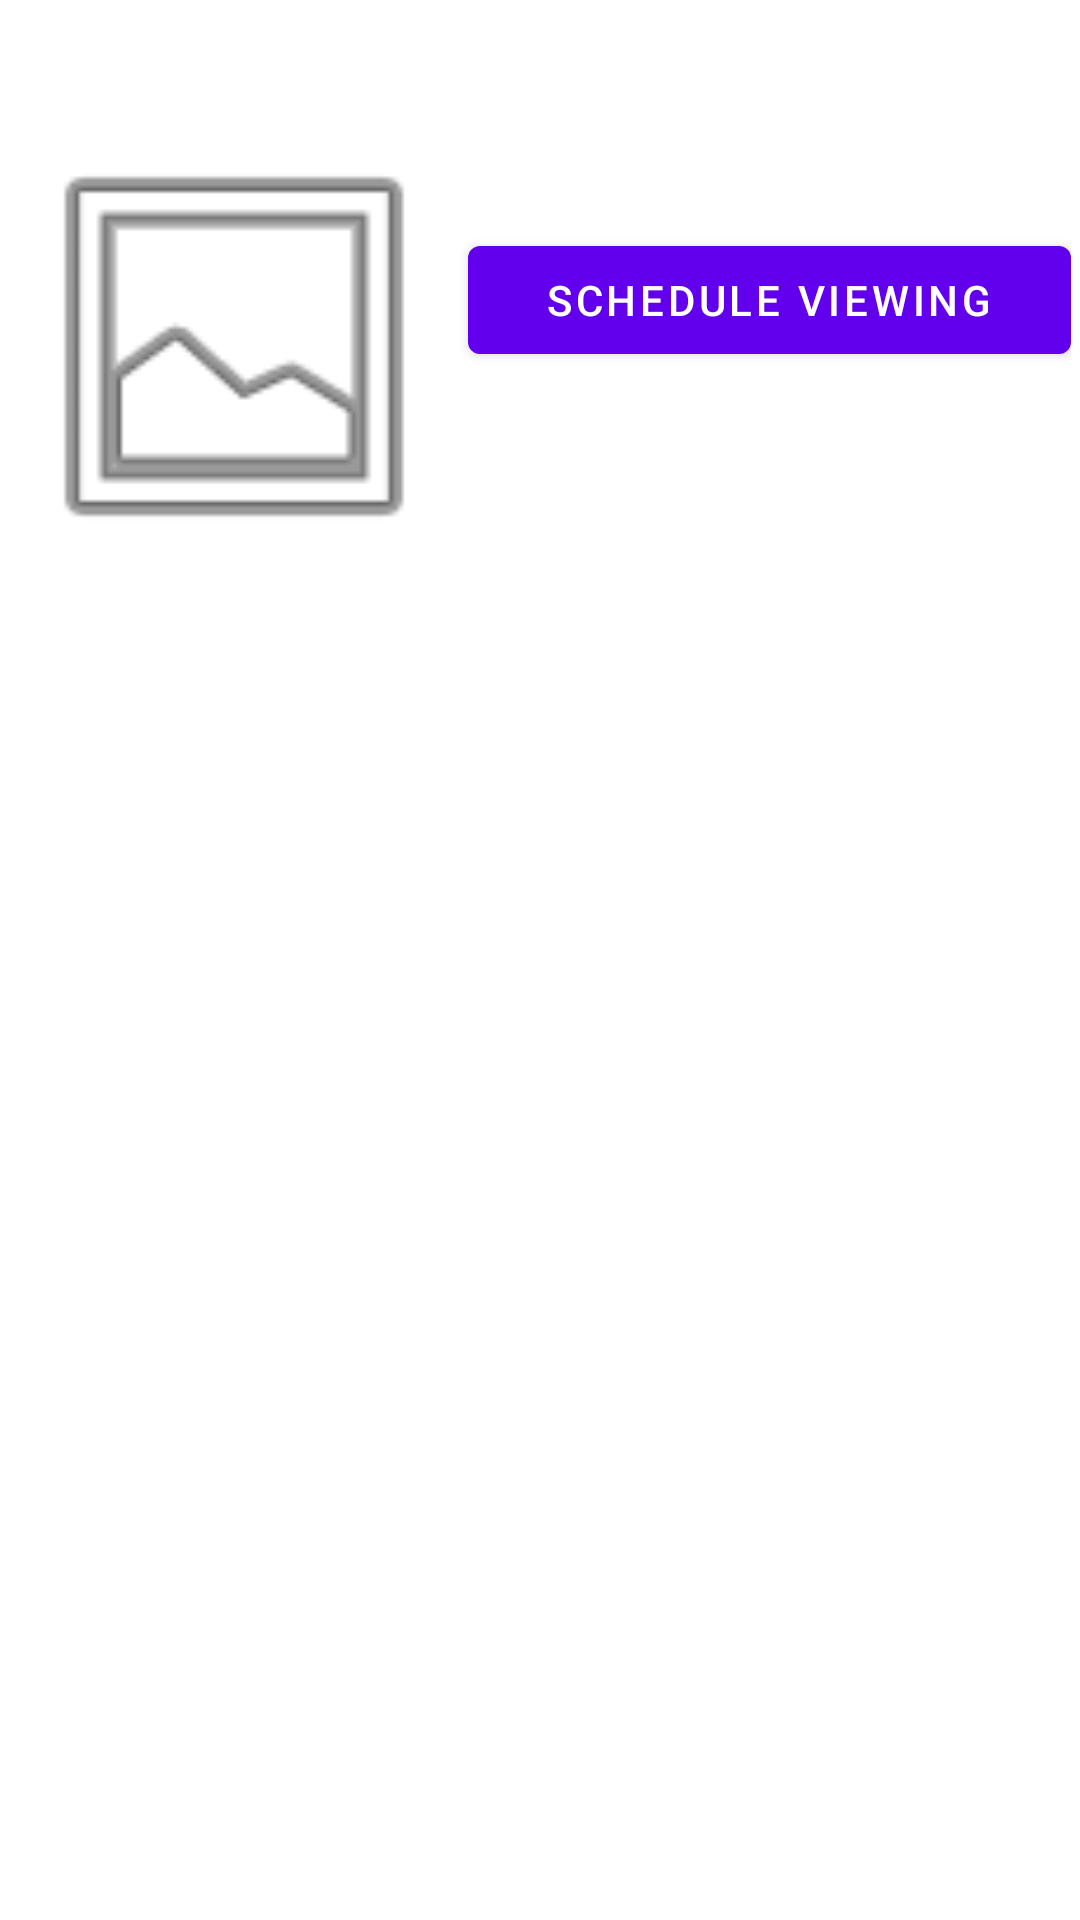

Screen size 1080 x 1920. Icon name, then its box in pixels as rect(x1, y1, x2, y2):
gallery: rect(64, 176, 404, 517)
